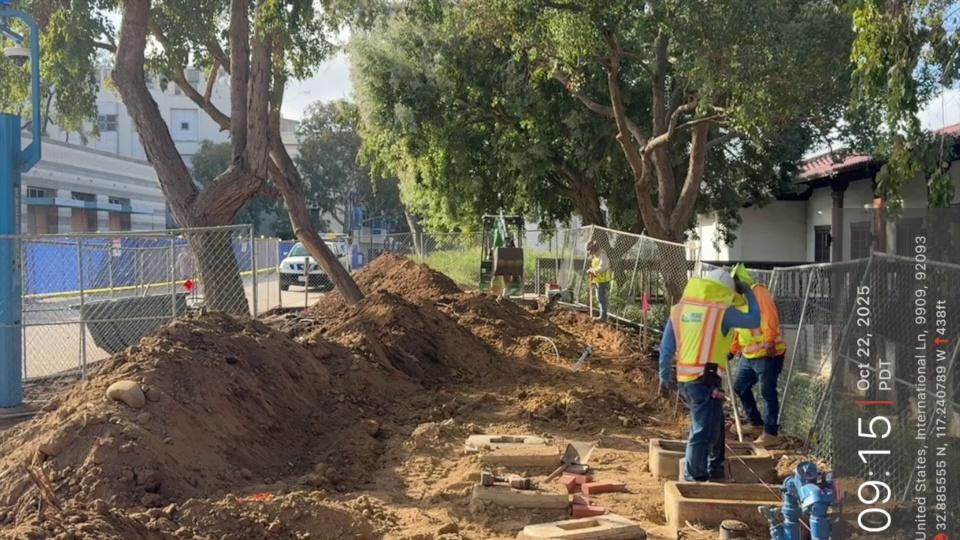Exacavator: (469, 206, 534, 308)
